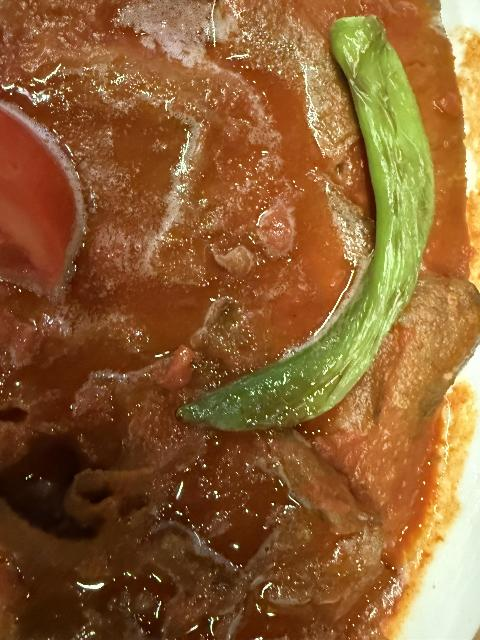Organik: (187, 22, 433, 444), (0, 94, 92, 305), (271, 435, 362, 548)
